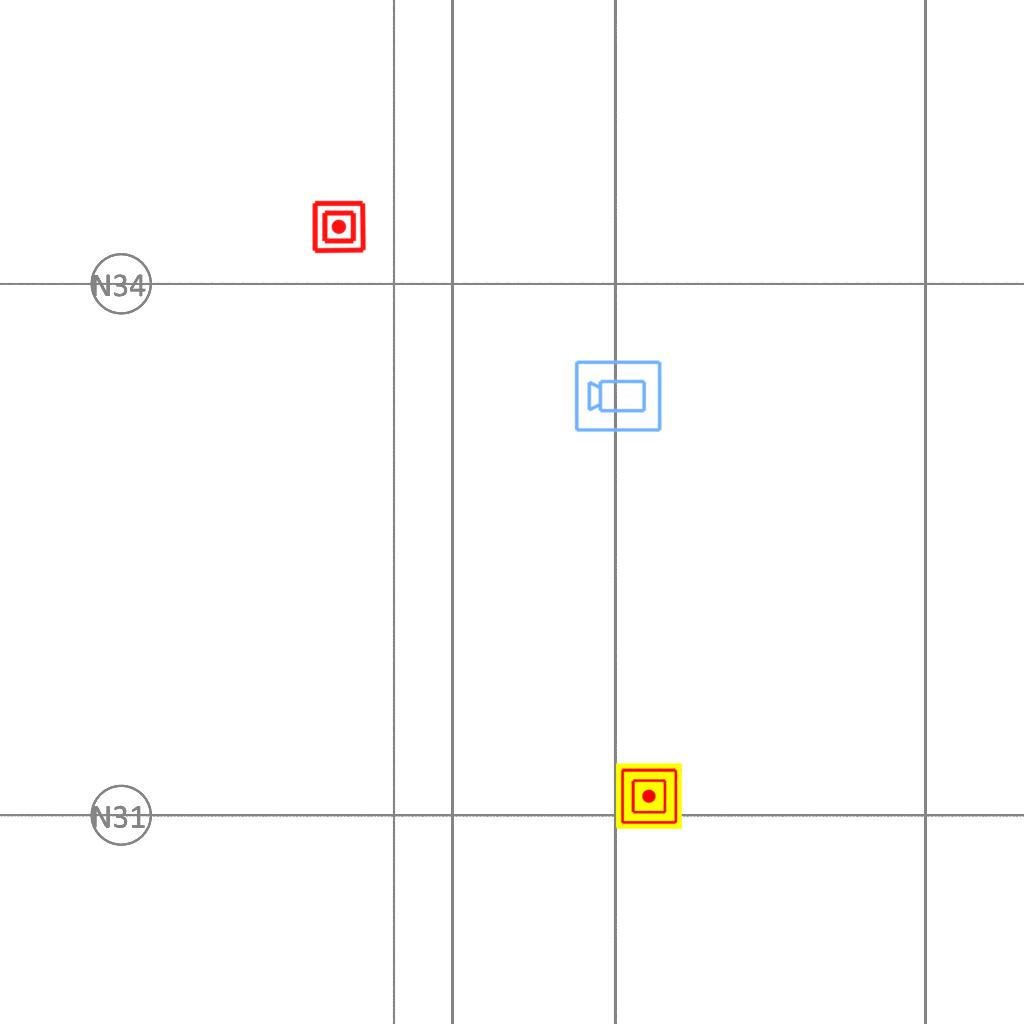KFO_Kamera_mit_Festobjektiv: (573, 357, 664, 434)
NAM-Nichtautomatischer_Melder: (616, 763, 682, 829), (311, 199, 367, 255)
